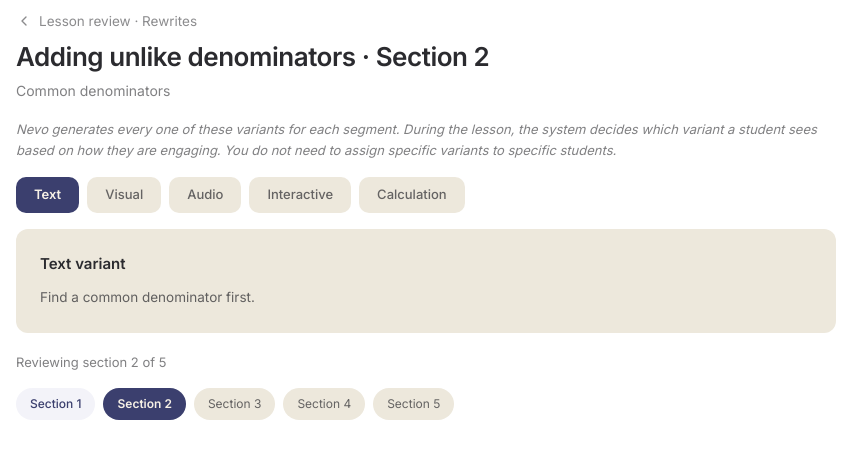
Test: the picture's sign-off line › still names who signed it off, when the server says
What coordinates should you click on to do the following:
click the tab "Visual"
I would click on:
 (124, 195)
Its box is x1=87 y1=177 x2=161 y2=213.
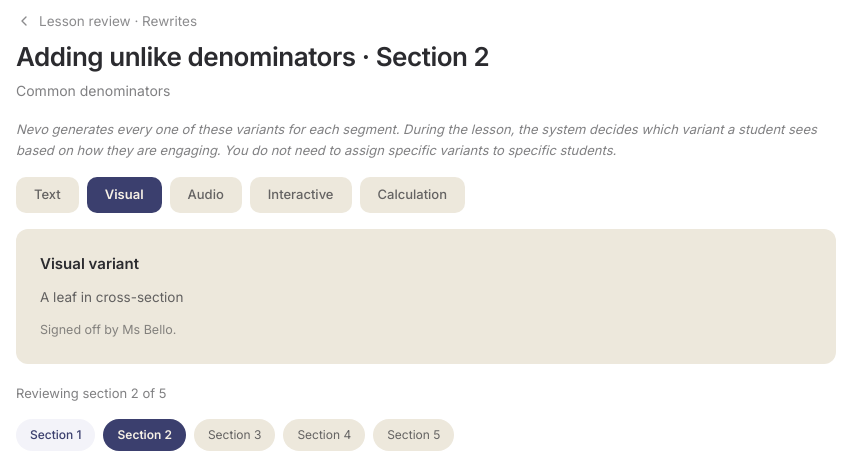
expect the text "Signed off by Ms Bello." is shown: met, box x1=40 y1=322 x2=176 y2=337
